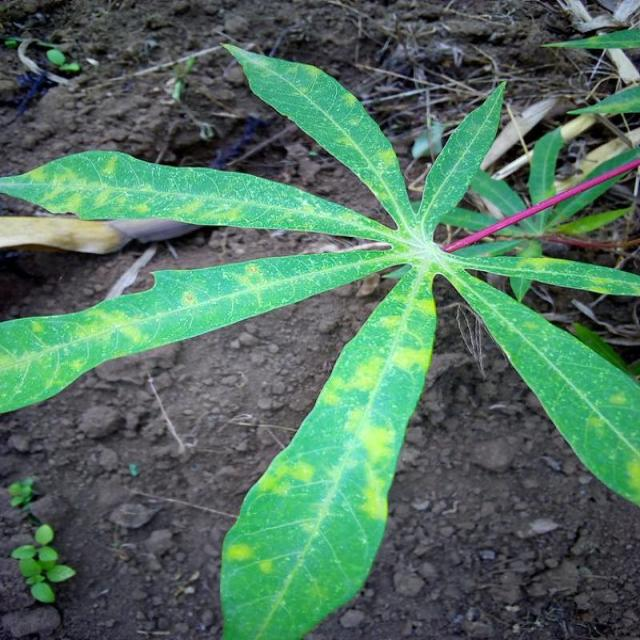cassava leaf: (1, 38, 638, 638), (218, 264, 437, 639)
